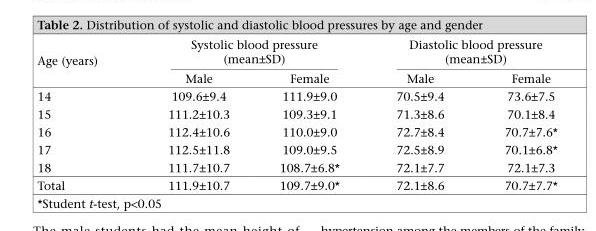table: (36, 36, 556, 192)
table column: (132, 36, 253, 192), (253, 36, 367, 192), (367, 36, 473, 192), (36, 36, 132, 192), (473, 36, 556, 192)
table column header: (36, 36, 556, 86)
table row: (36, 36, 556, 68), (36, 68, 556, 86), (36, 86, 556, 104), (36, 104, 556, 122), (36, 122, 556, 140), (36, 140, 556, 158), (36, 158, 556, 176), (36, 176, 556, 192)
table spanning cell: (132, 36, 367, 68), (367, 36, 556, 68), (36, 36, 132, 86)
